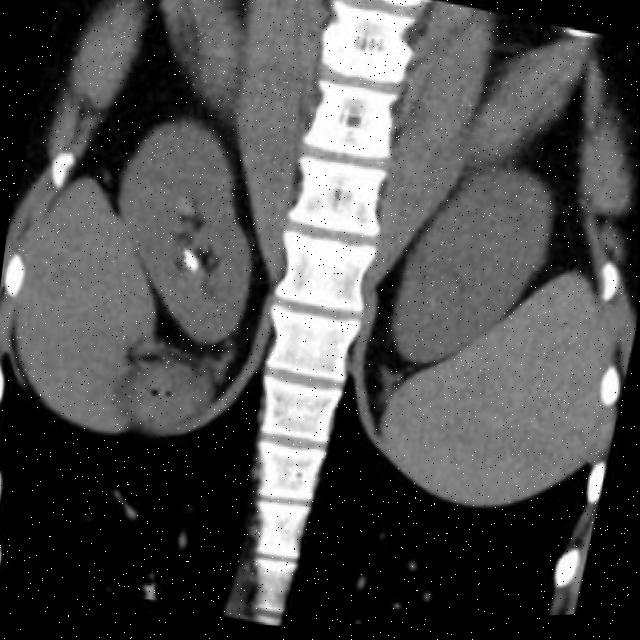Tas_Var: (180, 245, 204, 278)
